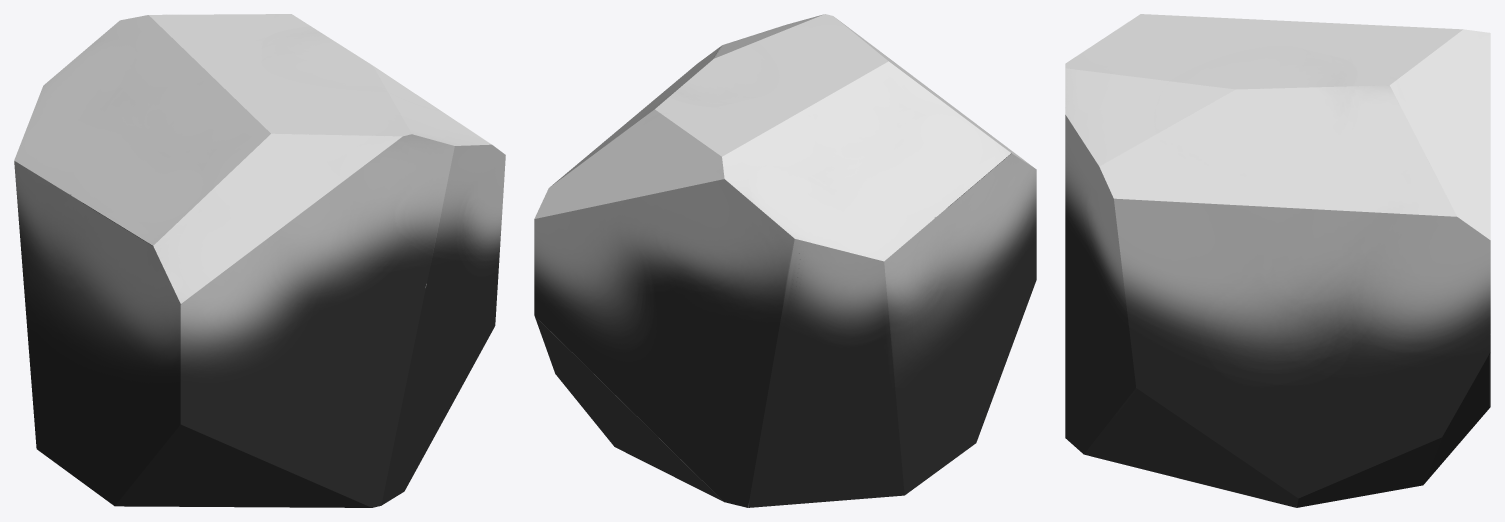
Rendered from Rock3.fbx.
The picture shows the model from 3 angles, left to right: view 1: azimuth 30°, elevation 25°; view 2: azimuth 150°, elevation 25°; view 3: azimuth 270°, elevation 25°; orthographic projection. The views are drawn at different scales.
Parts seen in each view (by area): view 1: Rock3; view 2: Rock3; view 3: Rock3.
Boxes of the visible parts, <box> form: Rock3: <box>14,14,505,507</box>; Rock3: <box>534,14,1036,507</box>; Rock3: <box>1065,14,1490,507</box>.
Size of the model in its own units: 200 by 200 by 200.
Materials: 1 (1 with a texture image).
